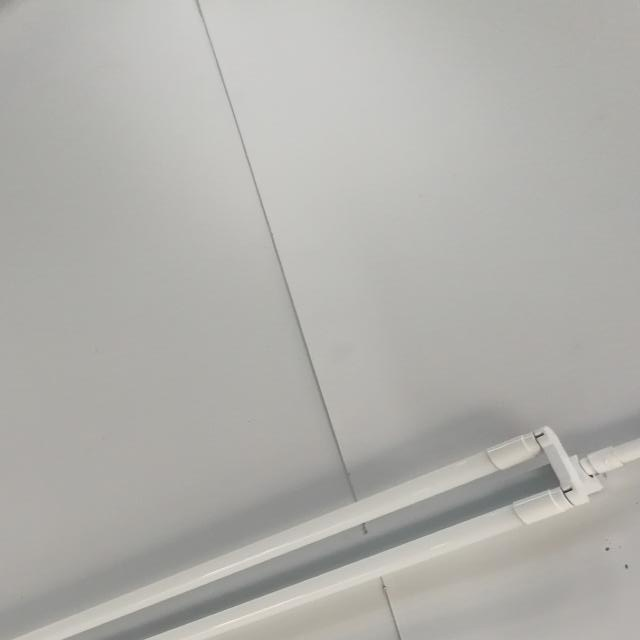fluorescent tube: (0, 408, 602, 640)
